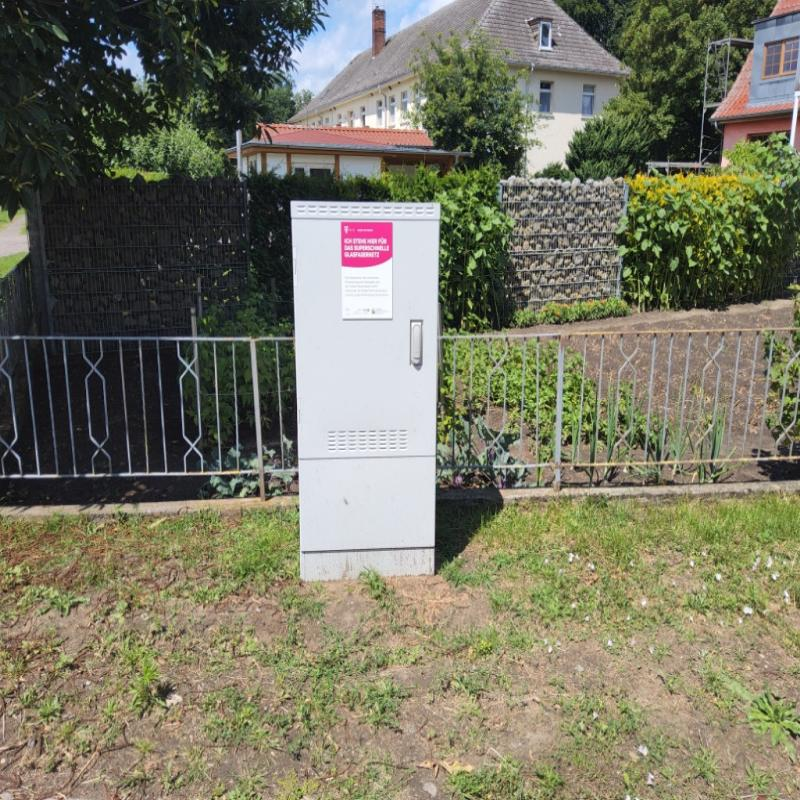NT-Gehause: (290, 199, 439, 581)
Steaker: (340, 222, 394, 324)
